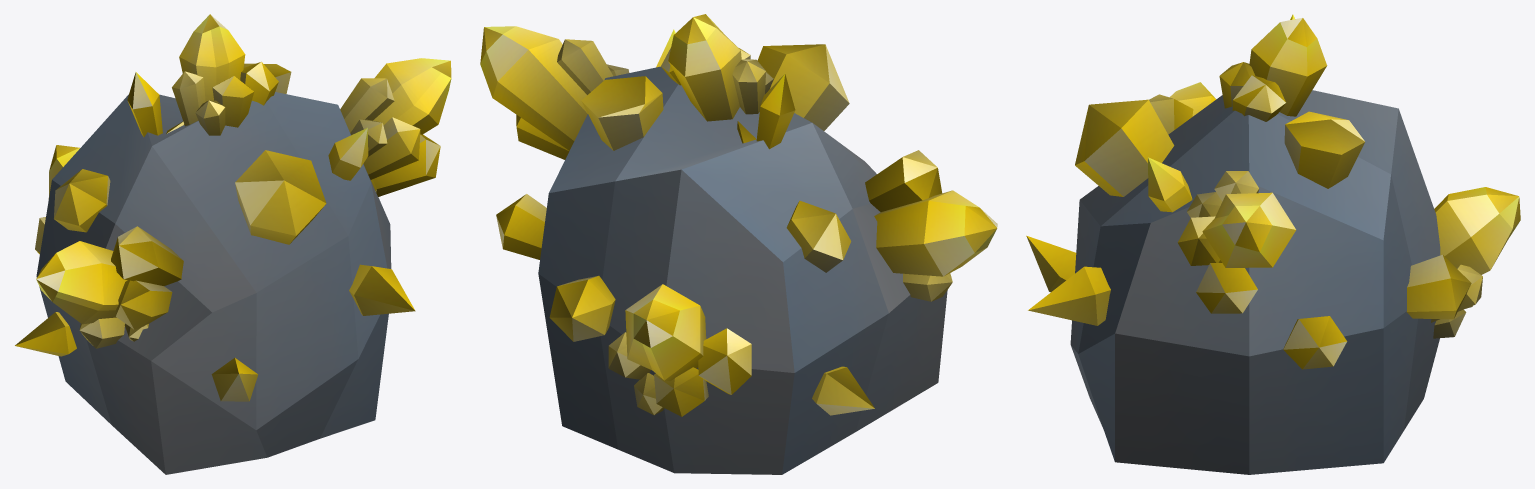
The model's file is Mine_V2.fbx.
3 renders of one model, left to right at view 1: azimuth 30°, elevation 25°; view 2: azimuth 150°, elevation 25°; view 3: azimuth 270°, elevation 25°, orthographic. The views are drawn at different scales.
Parts seen in each view (by area): view 1: Gold; view 2: Gold; view 3: Gold.
Part boxes in pixels (<box>): Gold: <box>15,14,451,474</box>; Gold: <box>480,14,997,474</box>; Gold: <box>1026,14,1520,474</box>.
Bounding box in the file's own units: 418 × 332 × 369.
